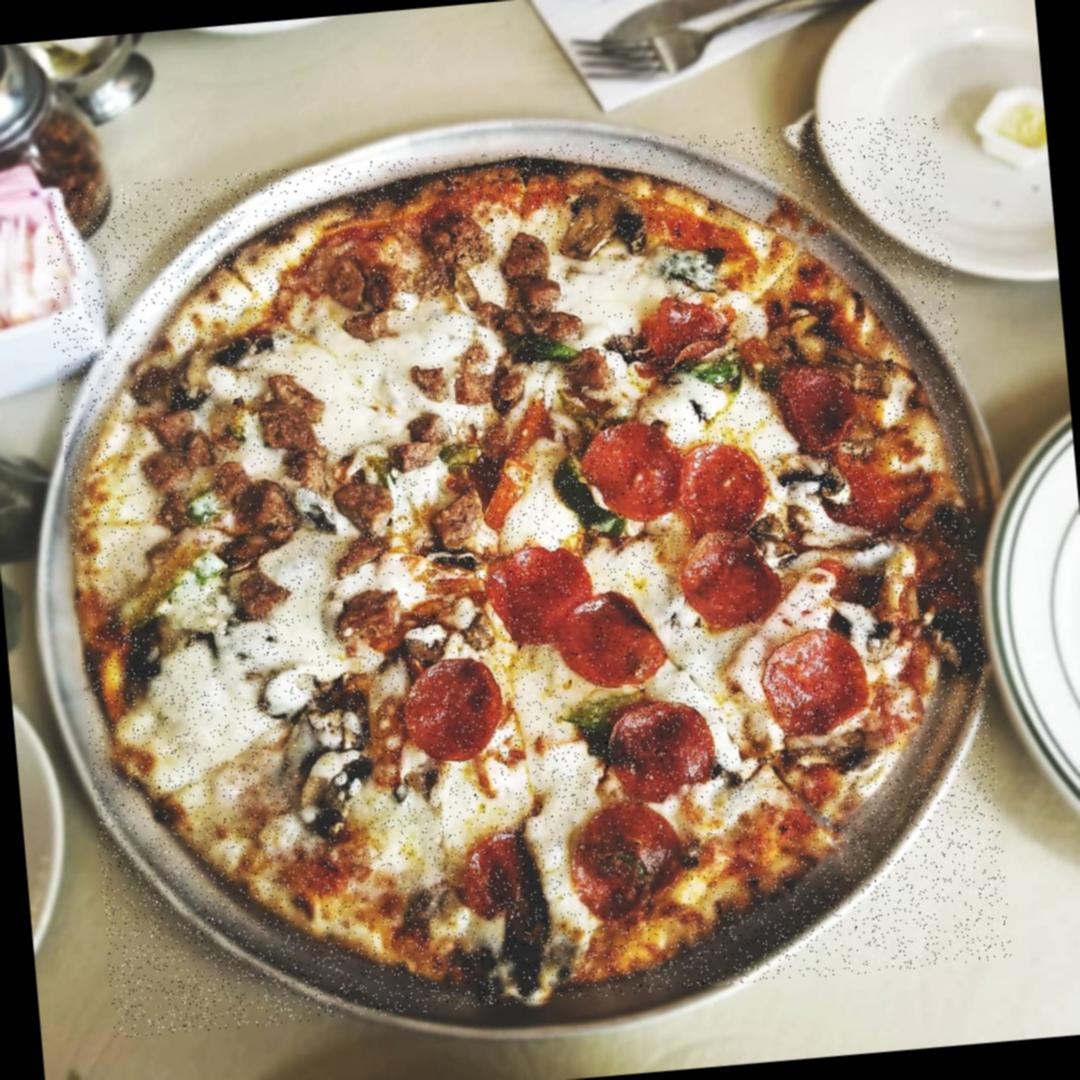Cheese: (160, 568, 378, 738), (306, 321, 464, 436), (512, 233, 668, 345)
Chicken: (480, 293, 576, 350), (455, 338, 526, 415), (141, 520, 223, 584), (224, 475, 294, 545), (254, 384, 322, 453), (428, 485, 492, 550), (392, 412, 455, 473), (154, 413, 219, 471), (345, 588, 410, 644), (331, 482, 392, 538), (322, 258, 375, 316), (506, 228, 557, 284), (514, 270, 568, 319), (234, 574, 286, 620), (282, 445, 330, 491), (144, 447, 190, 492), (409, 360, 450, 404), (570, 354, 609, 396)
Mushroom: (288, 720, 381, 832)
Pepperoni: (755, 632, 881, 752), (553, 590, 679, 704), (565, 802, 690, 914), (398, 658, 503, 766), (597, 707, 713, 804), (575, 417, 682, 522), (808, 432, 907, 531), (489, 542, 584, 642), (682, 536, 784, 624), (770, 349, 855, 450), (626, 298, 745, 370), (688, 447, 771, 534), (458, 827, 539, 906)
Pizza: (41, 113, 1014, 1040)
